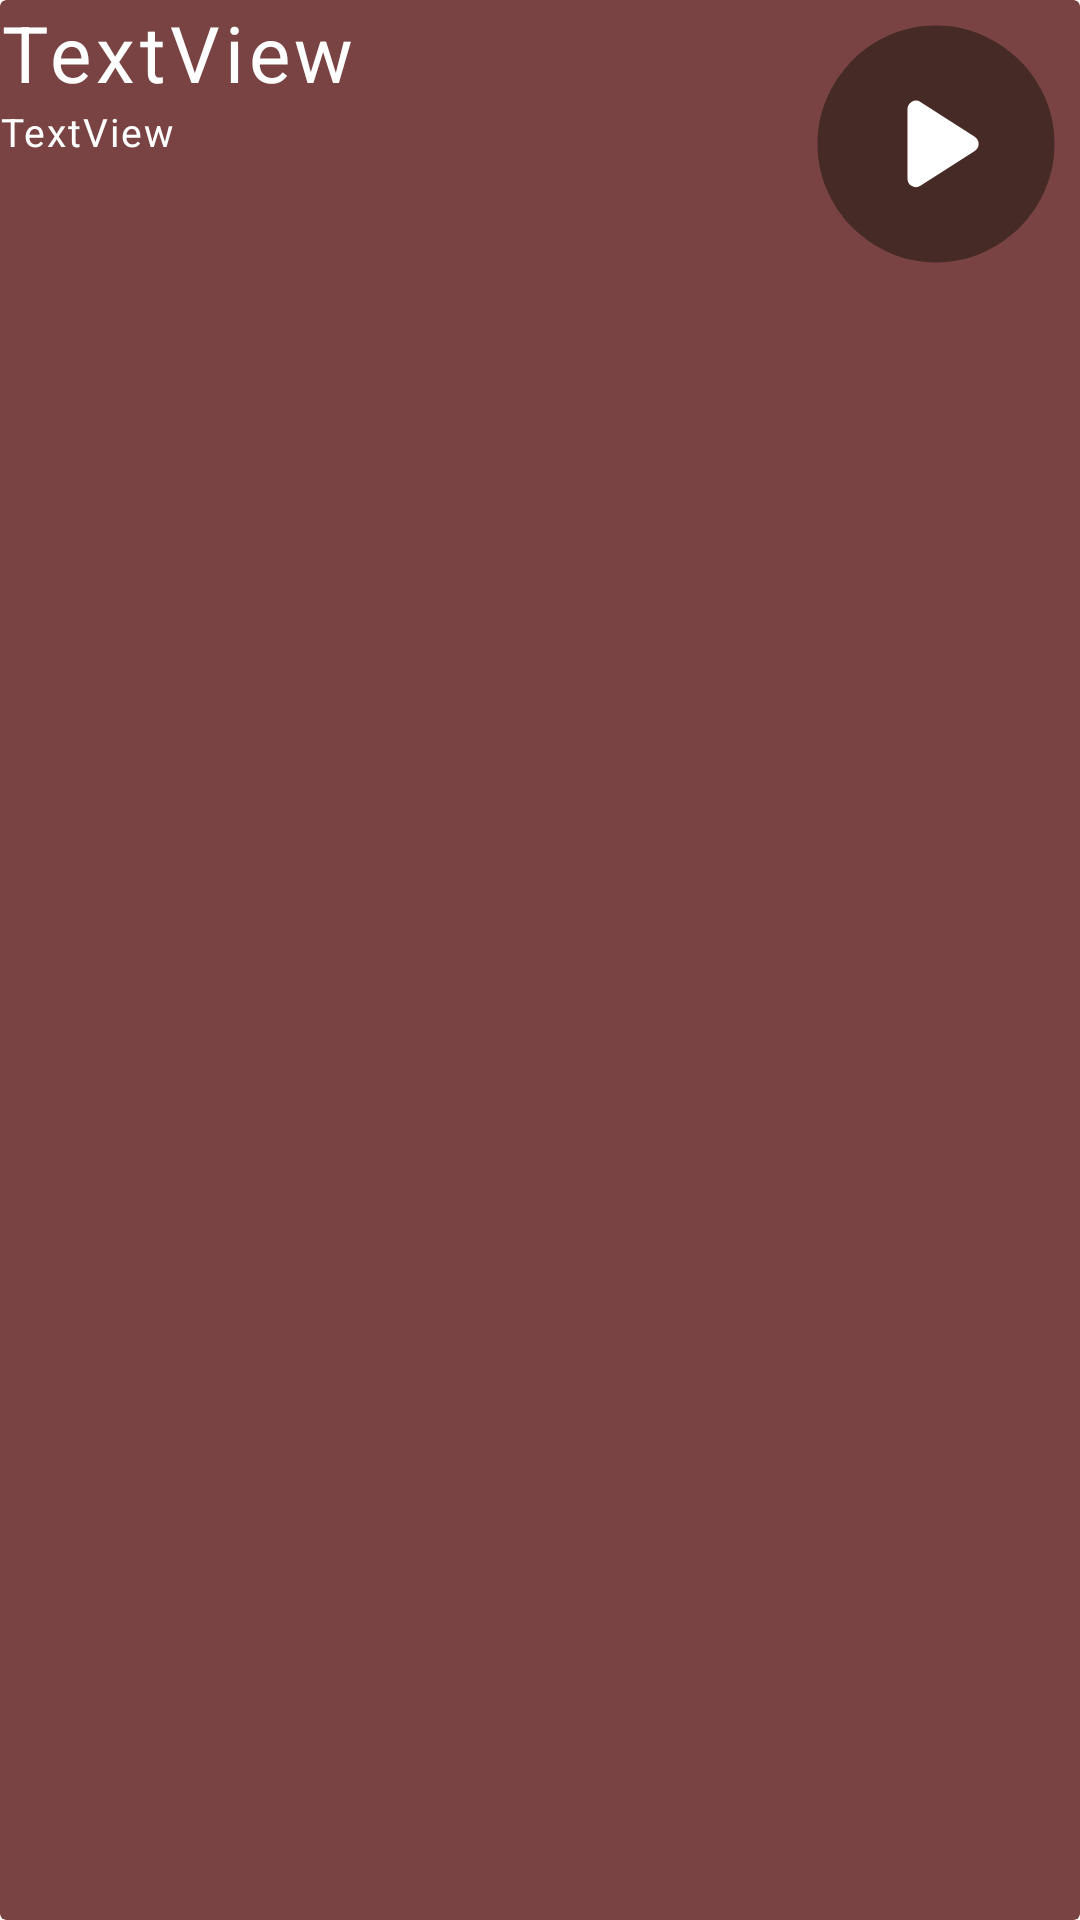

Icon click points for this 1080x1920 phone screenshot, format [x,y]:
songplay playpause: [948,131]
